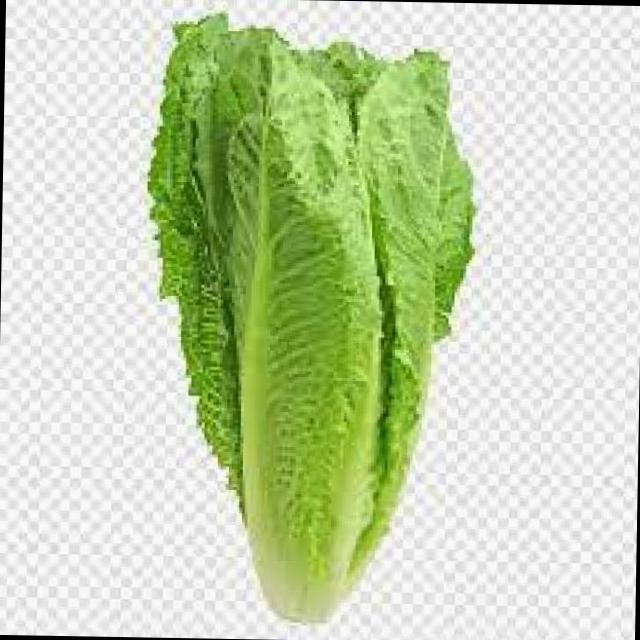Lettuce-Ready-to-Harvest: (151, 13, 471, 619)
